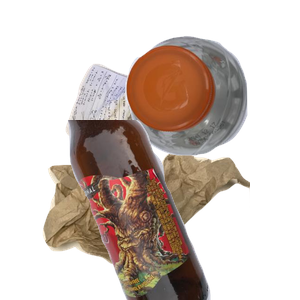glass: (65, 120, 300, 300)
paper: (63, 61, 242, 206)
plastic: (123, 33, 300, 181)
trash: (40, 138, 280, 300)
